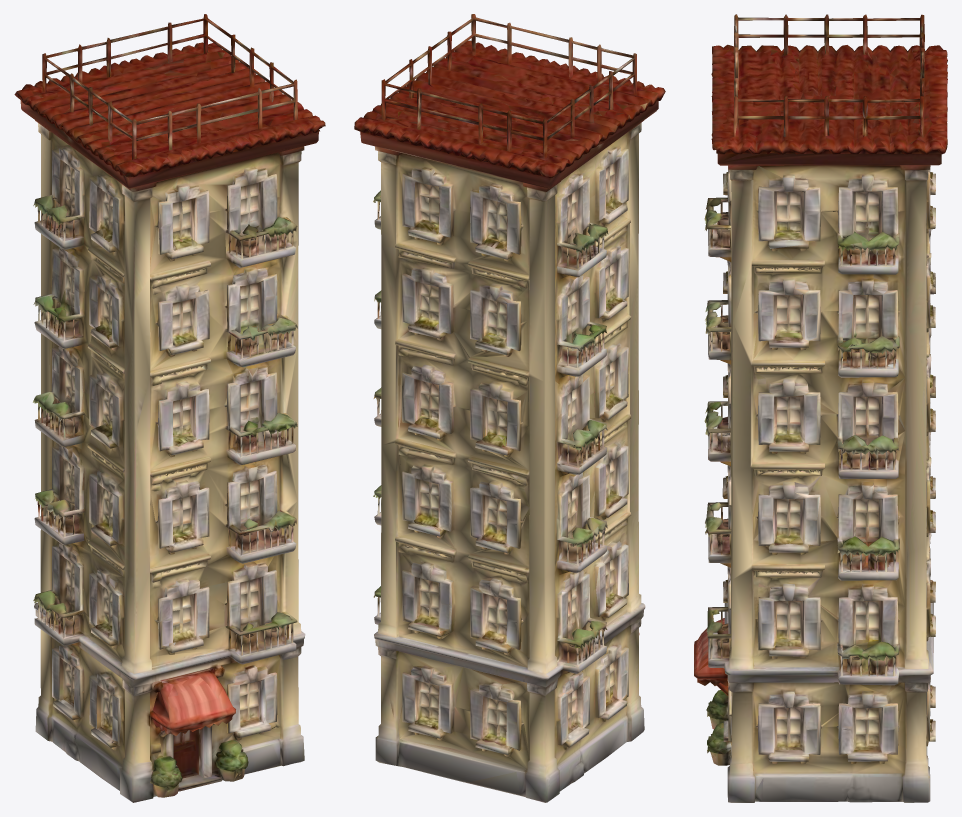
Rendered from gedung-plaza-g04.glb.
3 views of the same model, side by side, from view 1: azimuth 30°, elevation 25°; view 2: azimuth 150°, elevation 25°; view 3: azimuth 270°, elevation 25° (orthographic). The views are drawn at different scales.
Visible parts, largest first — view 1: node_0; view 2: node_0; view 3: node_0.
Boxes of the visible parts, box(x1,y1,x2,y2) form: node_0: box(14, 14, 325, 802); node_0: box(354, 14, 665, 802); node_0: box(694, 14, 947, 802).
Size of the model in its own units: 0.3656 by 1.13 by 0.3672.
Materials: 1 (1 with a texture image).
